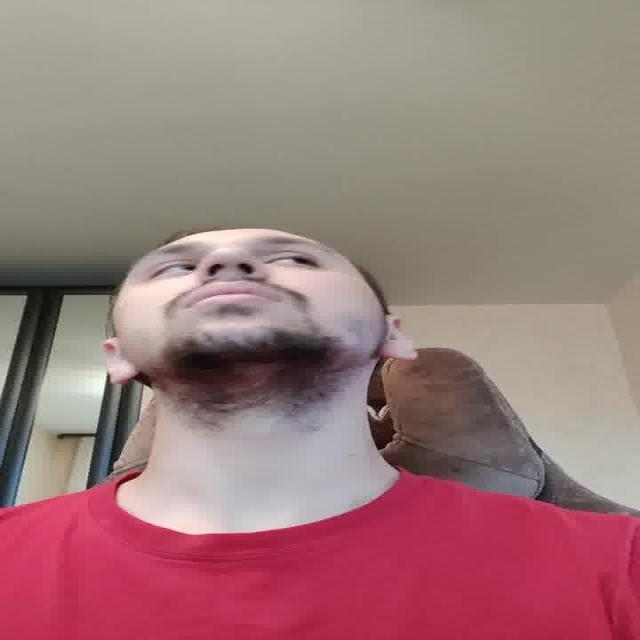earlobe: (382, 314, 420, 362), (104, 338, 141, 383)
